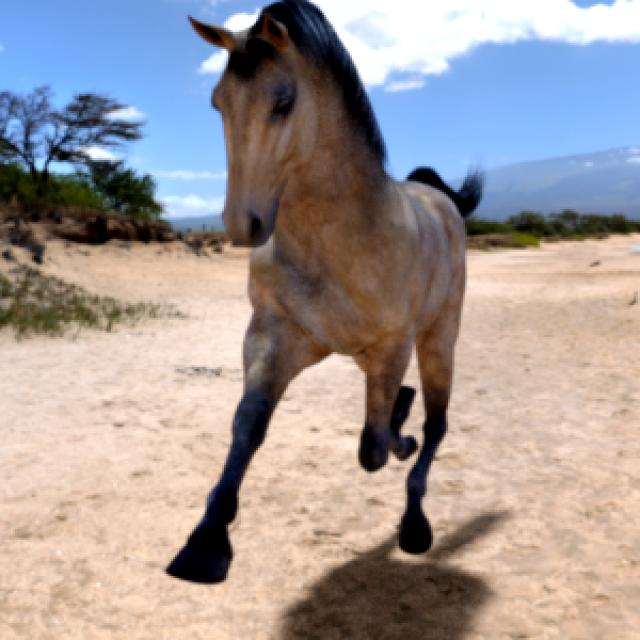horse: (166, 0, 481, 583)
